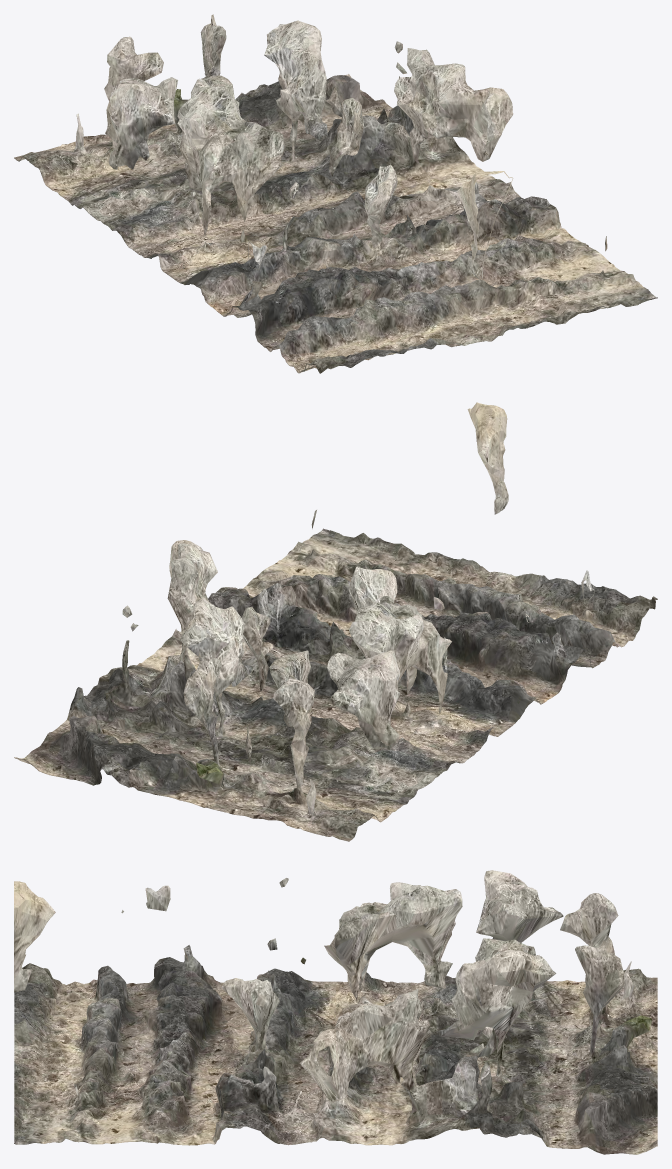
File: Block_L19_129.glb
3 views of the same model, one above another, from view 1: azimuth 30°, elevation 25°; view 2: azimuth 150°, elevation 25°; view 3: azimuth 270°, elevation 25° (orthographic). The views are drawn at different scales.
Parts seen in each view (by area): view 1: rtc; view 2: rtc; view 3: rtc.
Part boxes in pixels (left/top/right/bottom): rtc: left=14, top=14, right=657, bottom=373; rtc: left=14, top=402, right=657, bottom=841; rtc: left=14, top=870, right=657, bottom=1154.
Bounding box in the file's own units: 22.09 × 11.18 × 35.3.
Materials: 2 (2 with a texture image).
